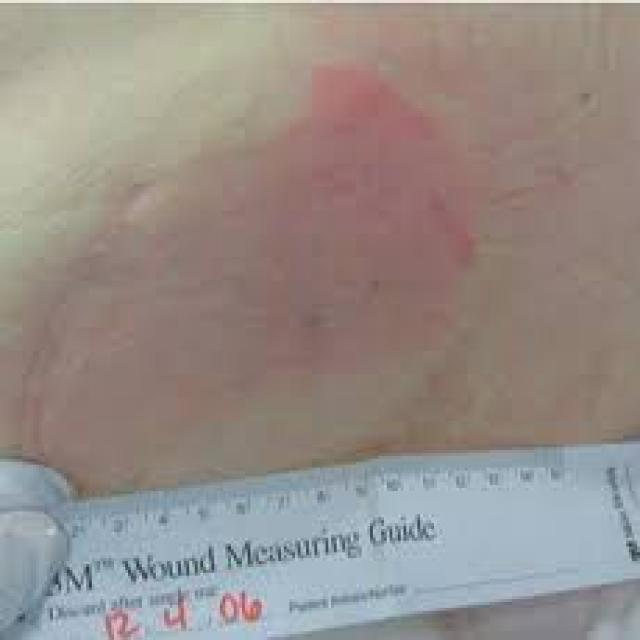stage-1: (259, 70, 482, 394)
